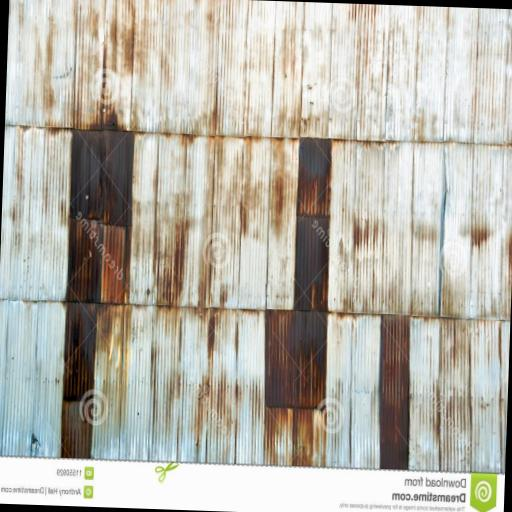segmentation: (5, 0, 512, 144), (66, 130, 134, 303), (154, 135, 214, 304), (83, 305, 123, 457), (265, 310, 327, 408), (379, 315, 409, 468), (63, 302, 109, 399), (295, 215, 329, 310), (297, 138, 331, 215), (62, 400, 91, 458), (197, 381, 211, 414)
